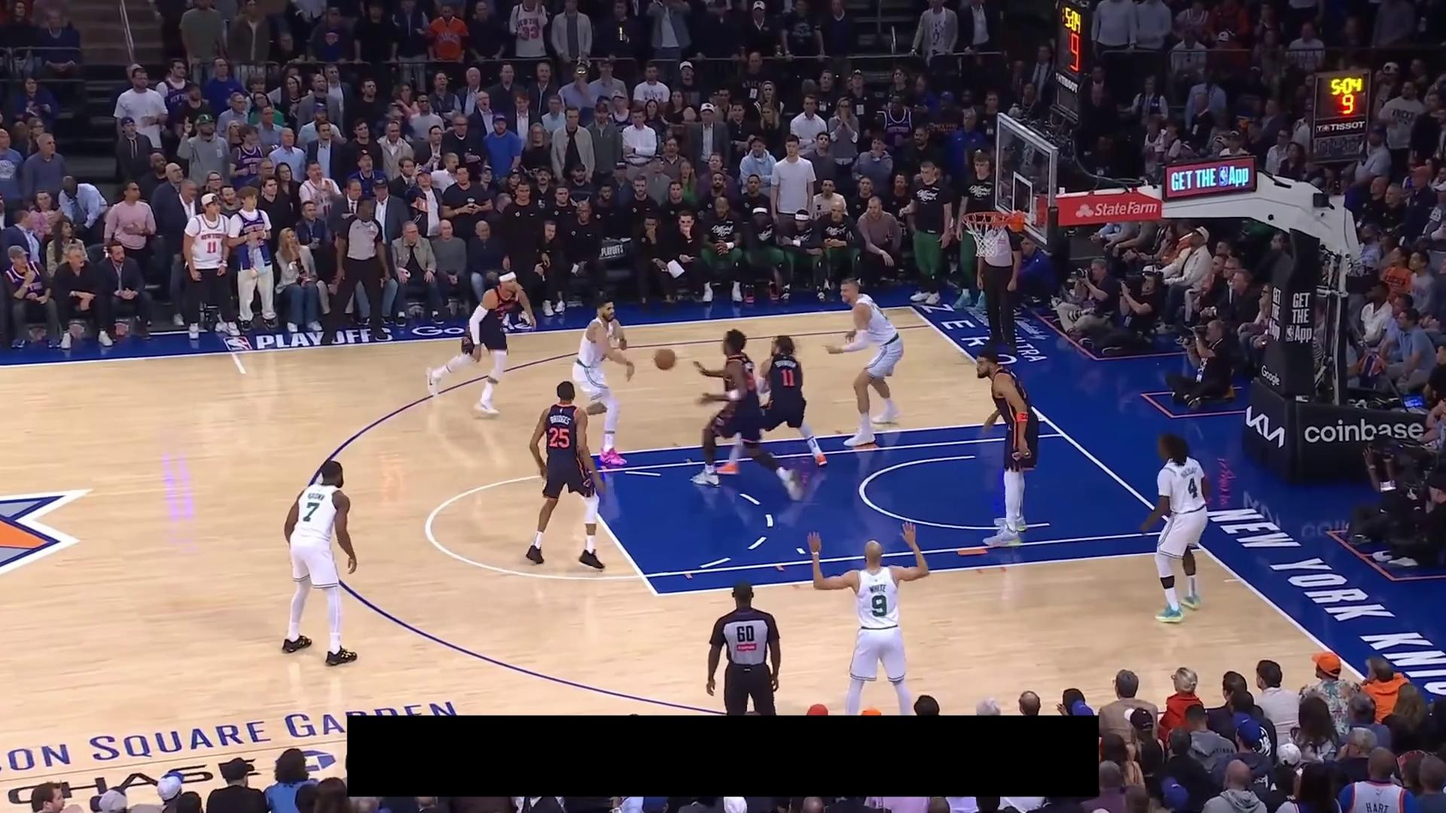ball: (654, 348, 676, 370)
number: (548, 426, 571, 449), (302, 501, 320, 522), (871, 595, 887, 617), (780, 367, 796, 388), (1187, 477, 1198, 498)
player: (808, 521, 934, 716), (689, 328, 805, 504), (279, 457, 360, 668), (425, 266, 538, 417), (714, 333, 829, 476), (524, 379, 609, 572), (1137, 429, 1214, 626), (825, 276, 907, 449), (975, 349, 1044, 550), (568, 297, 636, 467)
referee: (706, 579, 782, 715), (325, 193, 392, 343), (975, 224, 1023, 360)
rim: (962, 211, 1009, 225)
